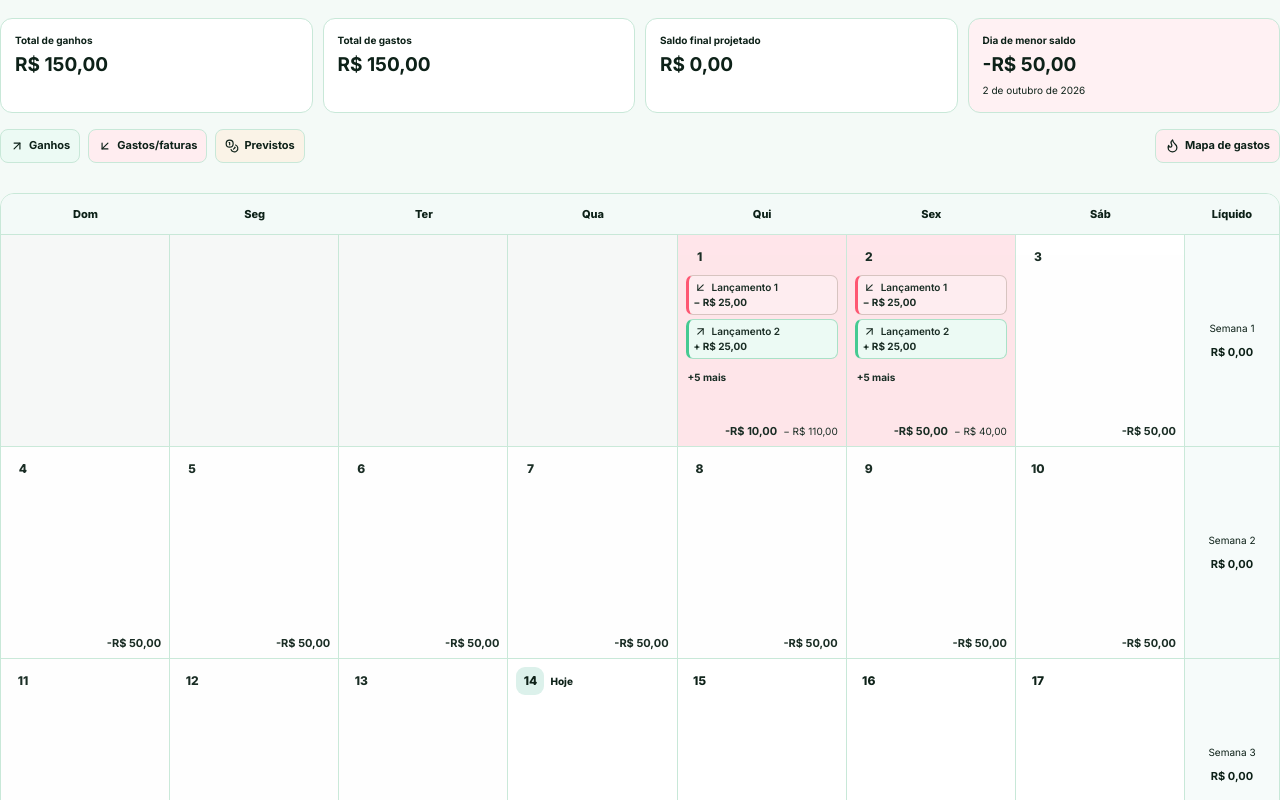
Test: shows month/week summaries, links the minimum balance day and can disable the heatmap
Expected: the text "Saldo final projetado" is shown, [660,33,761,48]
Click the button "Mapa de gastos" at (1217, 146), box [1155,129,1279,163]
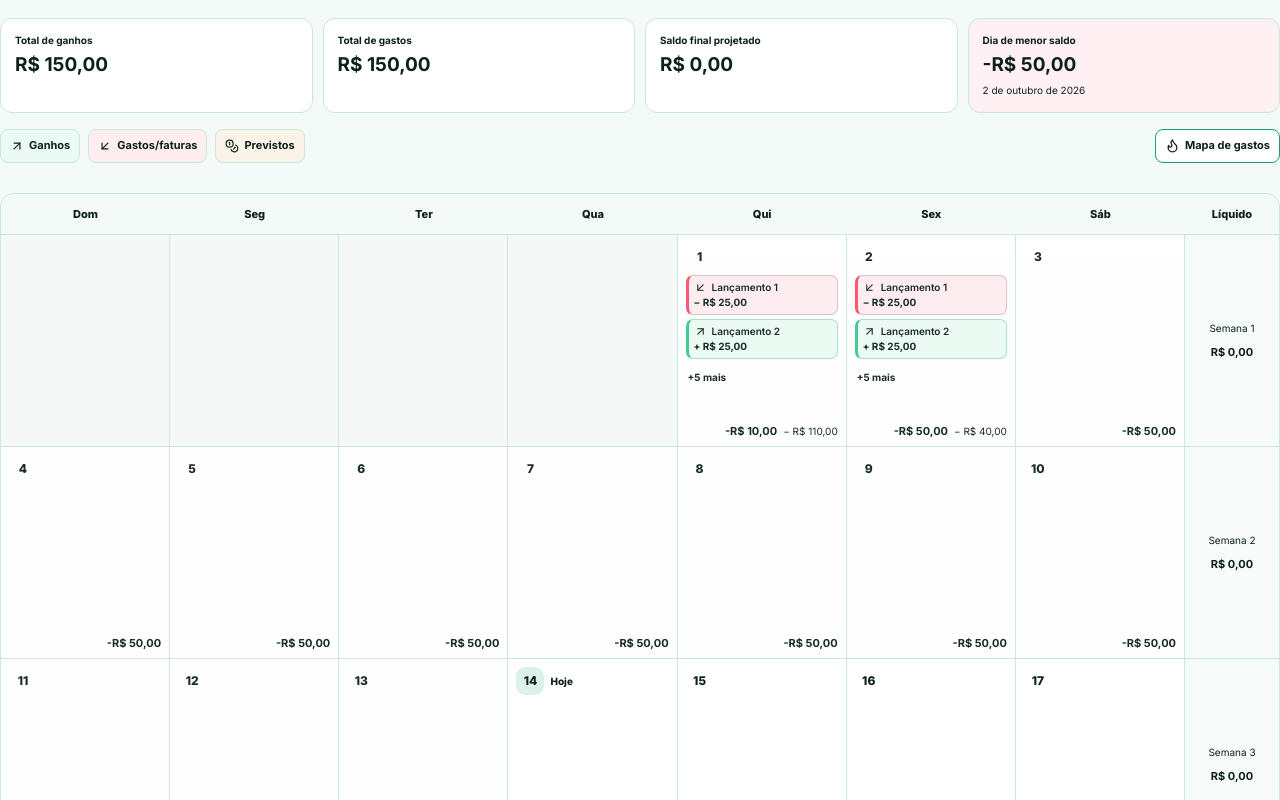
Click the button with aria-label "Dia de menor saldo: 2 de outubro de 2026" at (1029, 40), box [968,18,1279,113]
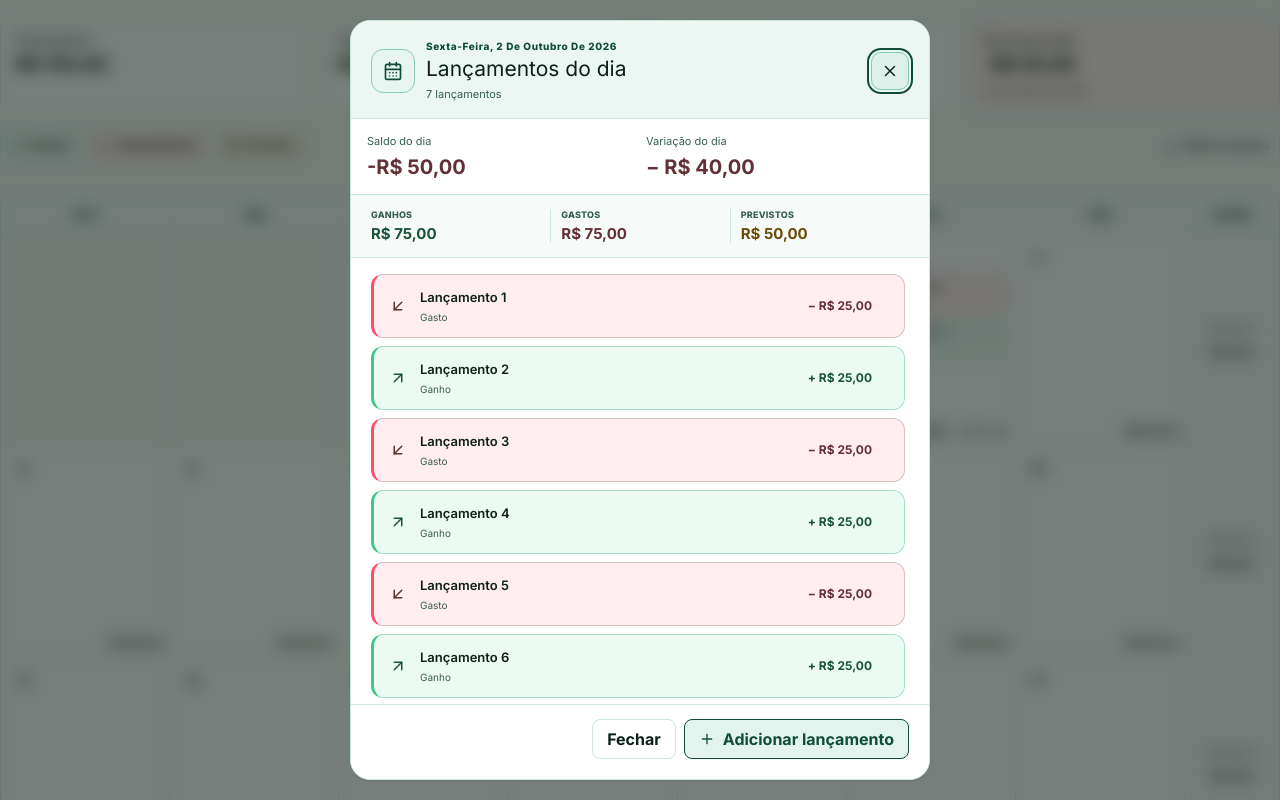
Expected: the text "sexta-feira, 2 de outubro de 2026" is shown, [426,40,617,52]
